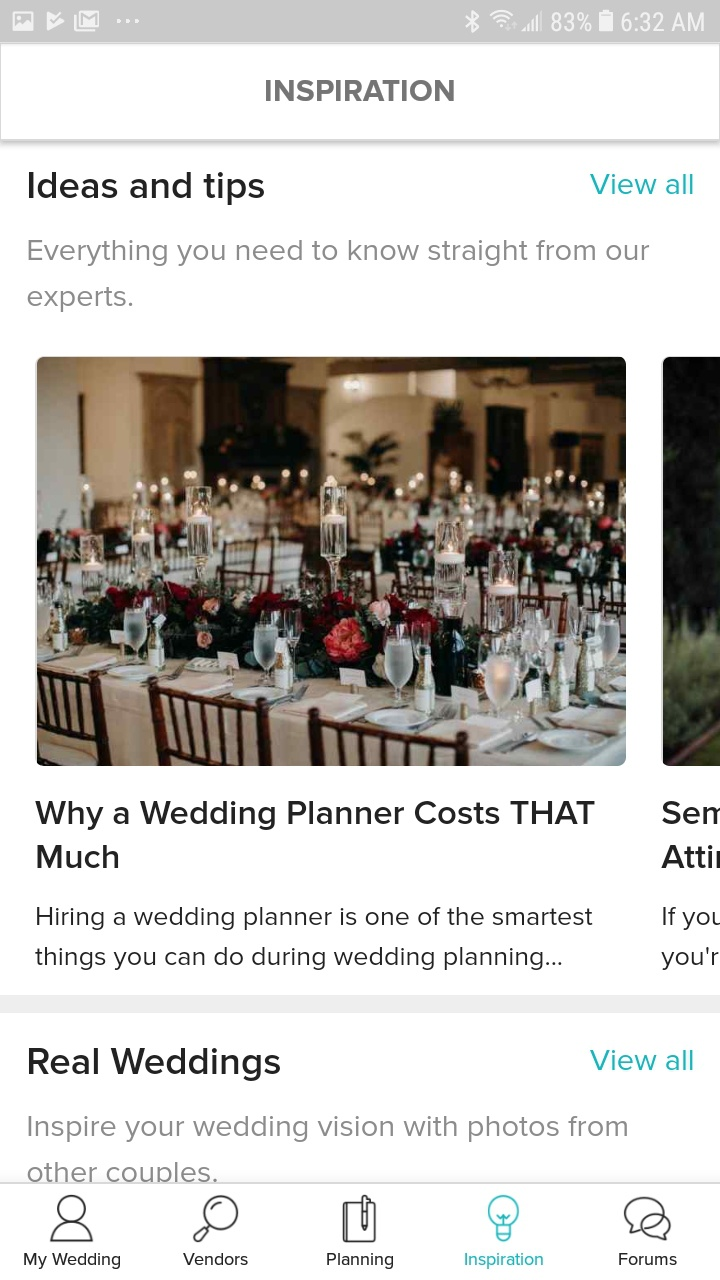Icon: (193, 1194, 239, 1243), (623, 1196, 671, 1241), (50, 1194, 94, 1242), (343, 1194, 377, 1243)
Image: (37, 357, 627, 767), (662, 357, 720, 767), (488, 1194, 520, 1242)
Text: (28, 240, 650, 313), (28, 1115, 628, 1182), (35, 801, 595, 869), (35, 907, 593, 971), (29, 1047, 281, 1082), (29, 172, 265, 206), (266, 80, 455, 103), (661, 801, 720, 869), (660, 906, 720, 971), (589, 174, 693, 196), (590, 1049, 693, 1071), (24, 1252, 122, 1270), (465, 1252, 544, 1270), (327, 1252, 394, 1270), (183, 1252, 249, 1266), (618, 1252, 678, 1266)
UpperTaskBar: (1, 1, 720, 43)
